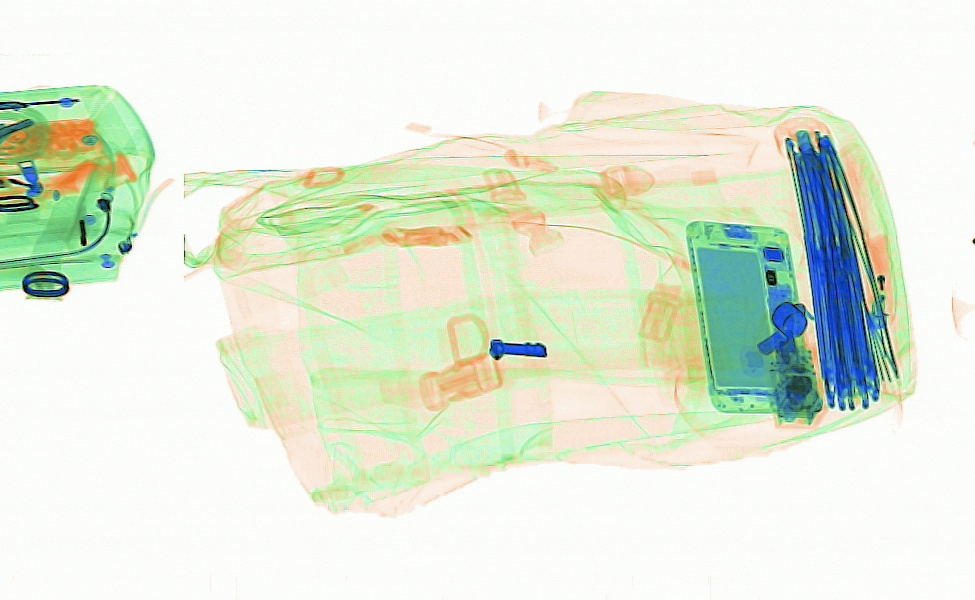lighter: (858, 231, 896, 334)
